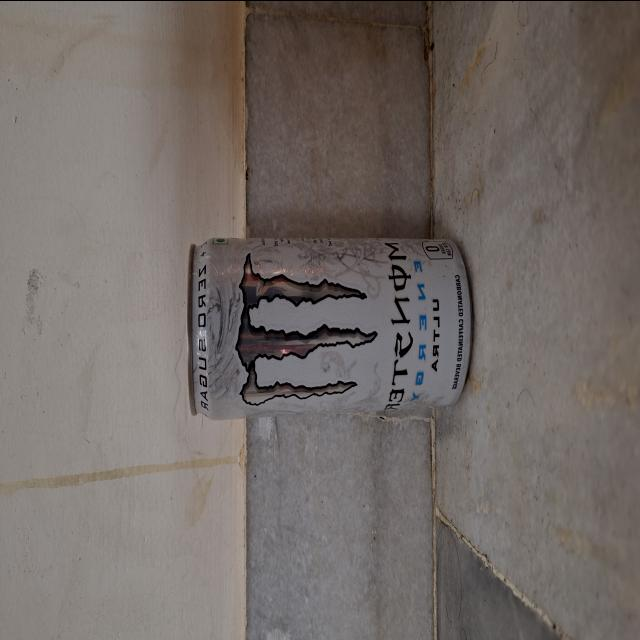White Monster: (171, 214, 493, 430)
